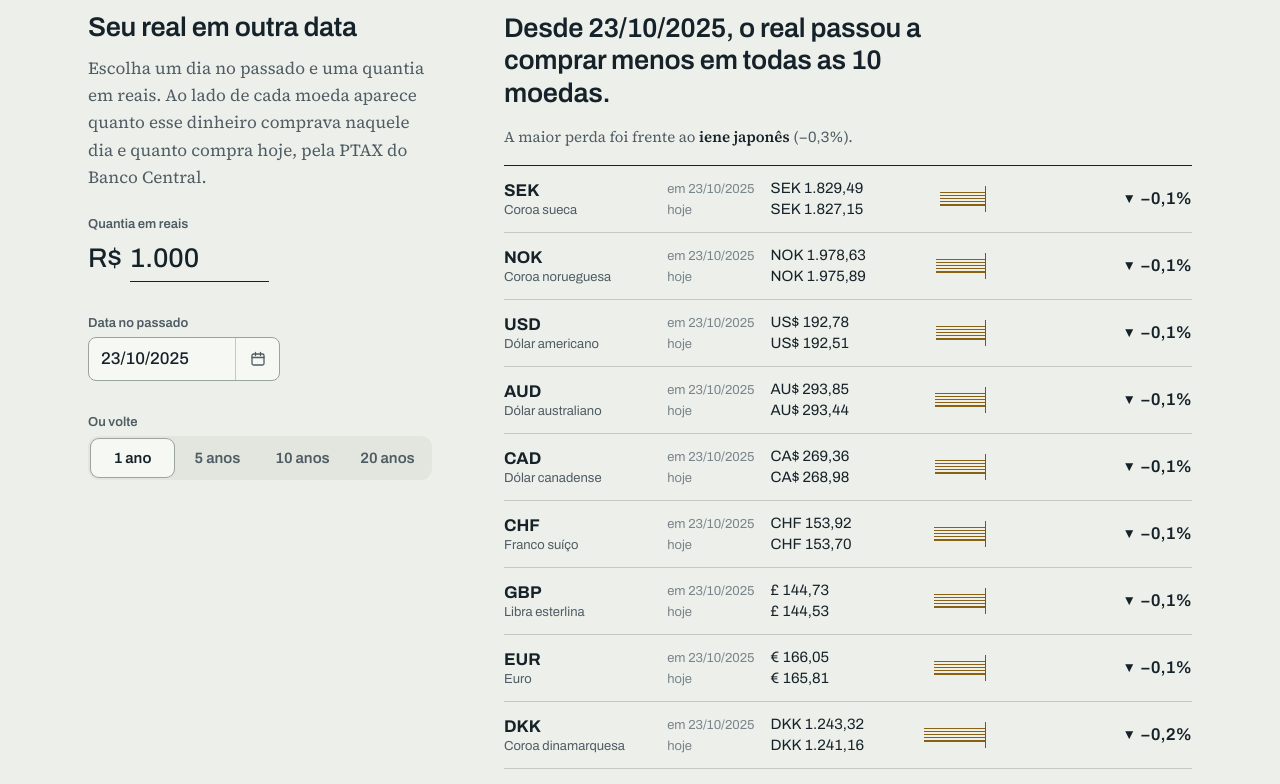
Test: seu real em outra data › aceita a data digitada em dd/mm/aaaa e só reclama quando ela está completa
The width and height of the screenshot is (1280, 784).
Replace the text in the field labelled "Data no passado" with "1503" at x=162, y=359, box [89, 338, 235, 380]
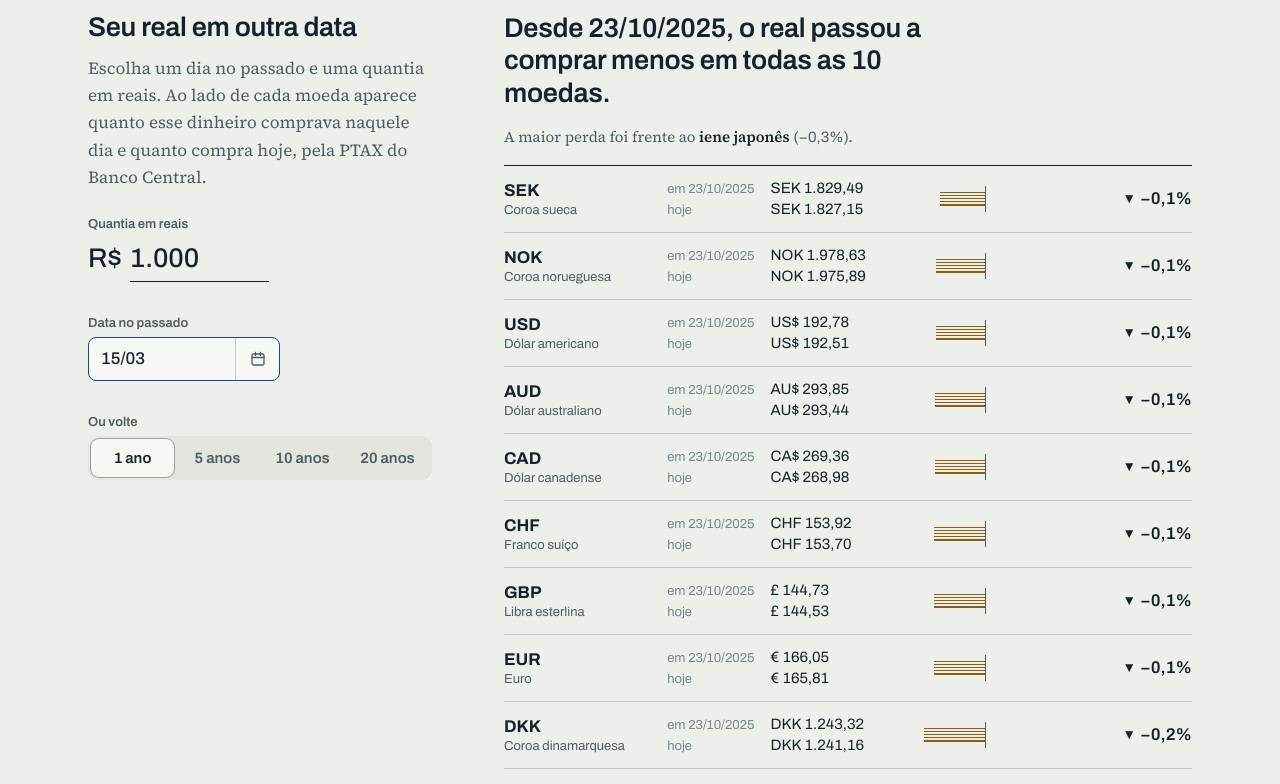
Now the field labelled "Data no passado" holds "15/03"
Type "2016" into the field labelled "Data no passado" at x=162, y=359, box [89, 338, 235, 380]
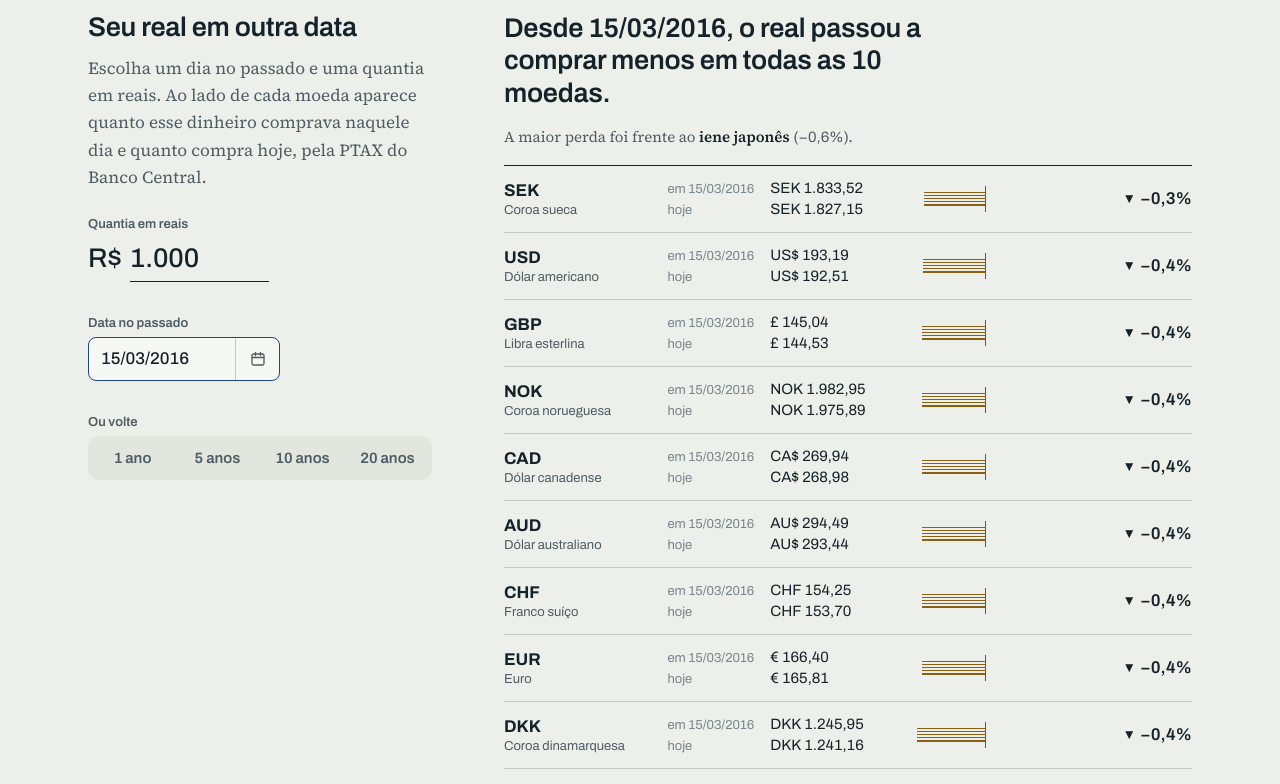
Now the field labelled "Data no passado" holds "15/03/2016"
Replace the text in the field labelled "Data no passado" with "31022020" at x=162, y=359, box [89, 338, 235, 380]
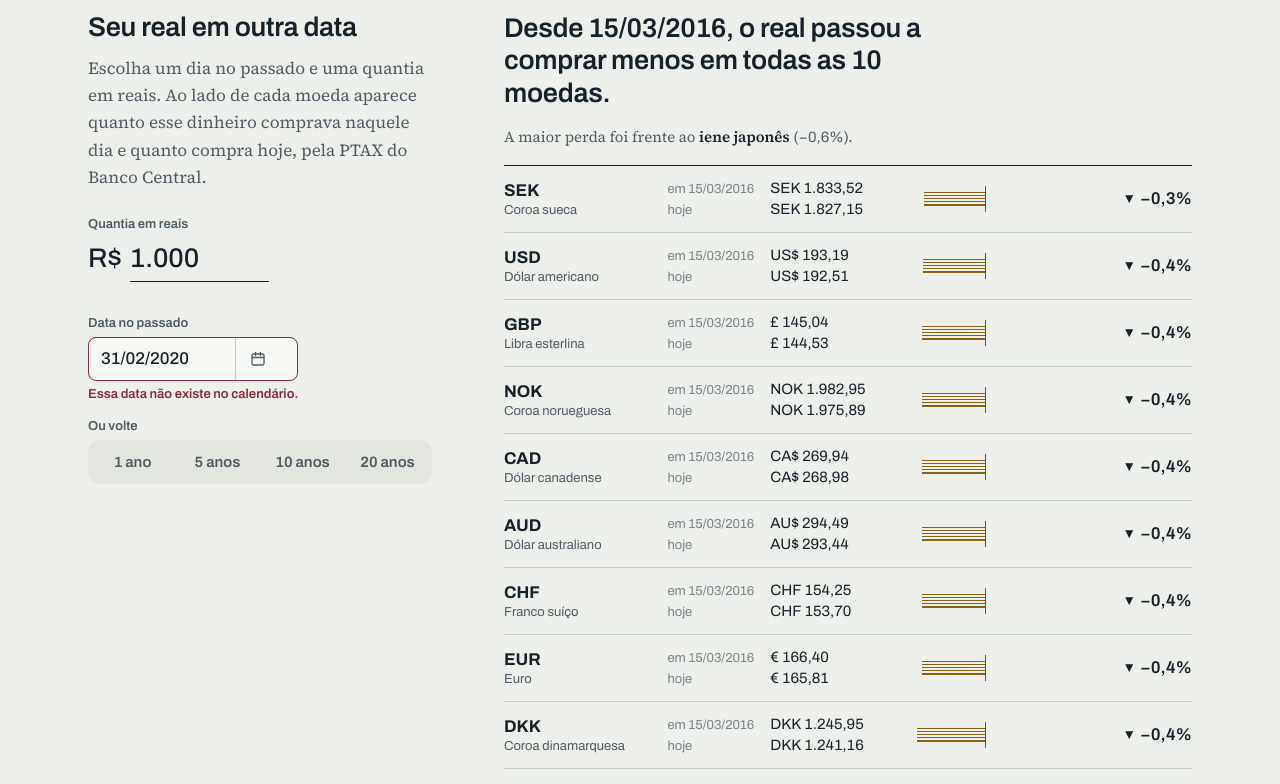
Now the text "Essa data não existe no calendário." is shown, box [88, 385, 298, 405]
